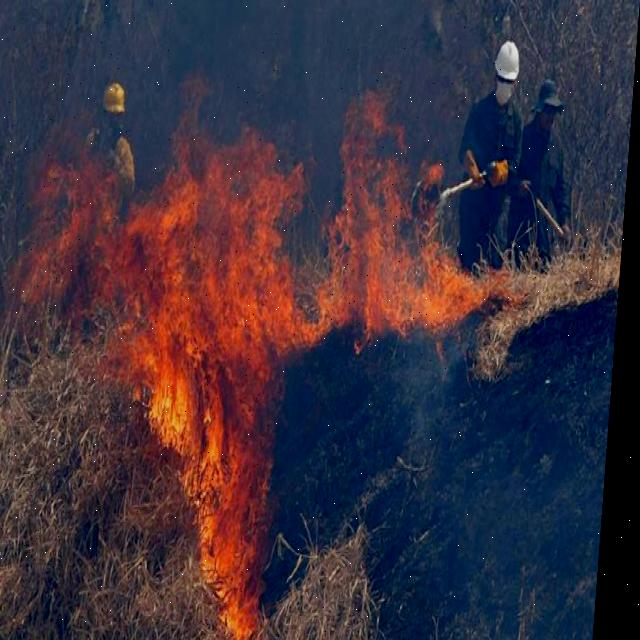fire: (44, 161, 303, 357), (136, 361, 286, 640), (336, 132, 419, 325), (416, 234, 477, 331)
